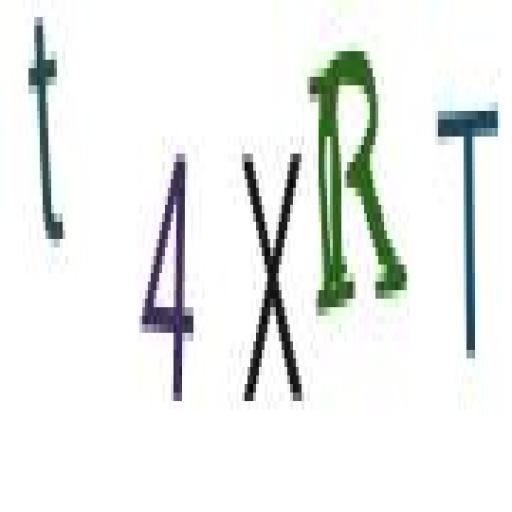4: (136, 134, 200, 412)
R: (308, 43, 410, 328)
T: (433, 95, 505, 373)
X: (232, 138, 311, 416)
t: (24, 4, 72, 257)
